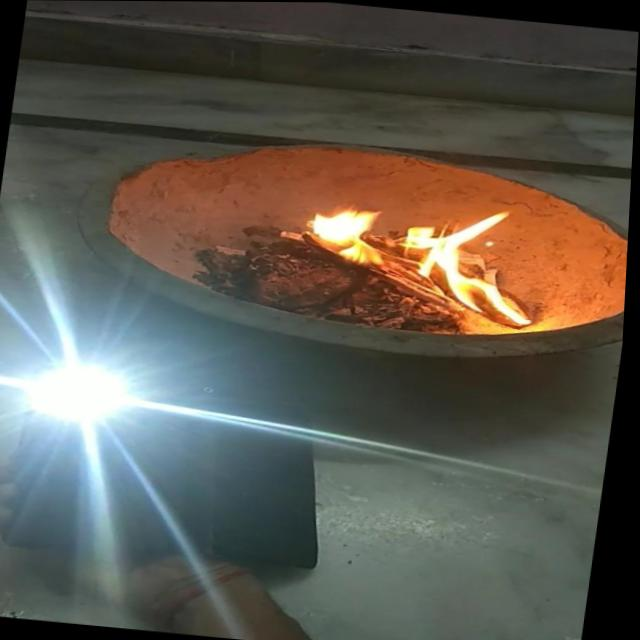fire: (304, 186, 552, 329)
